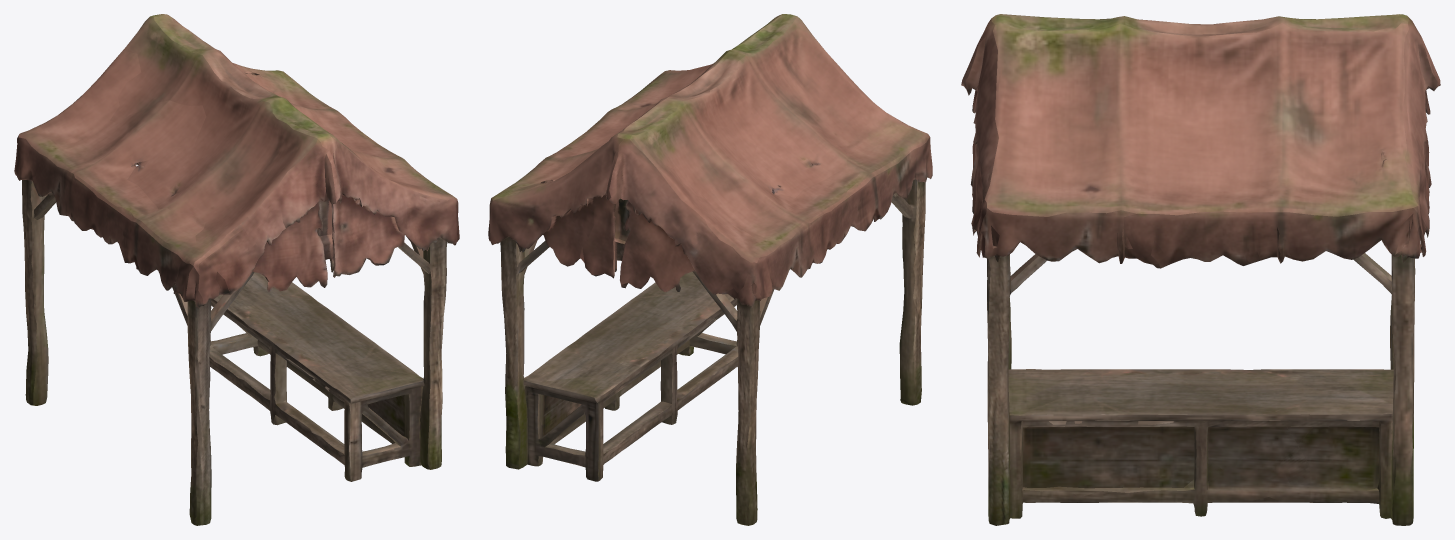
Rendered from market_canopy.glb.
The picture shows the model from 3 angles, left to right: view 1: azimuth 30°, elevation 25°; view 2: azimuth 150°, elevation 25°; view 3: azimuth 270°, elevation 25°; orthographic projection. The views are drawn at different scales.
Visible parts, largest first — view 1: geometry_0; view 2: geometry_0; view 3: geometry_0.
Part boxes in pixels (x1,y1,x2,y2): geometry_0: [14, 14, 459, 525]; geometry_0: [488, 14, 932, 525]; geometry_0: [961, 14, 1440, 525].
Bounding box in the file's own units: 3 × 3.71 × 3.66.
Materials: 1 (1 with a texture image).
